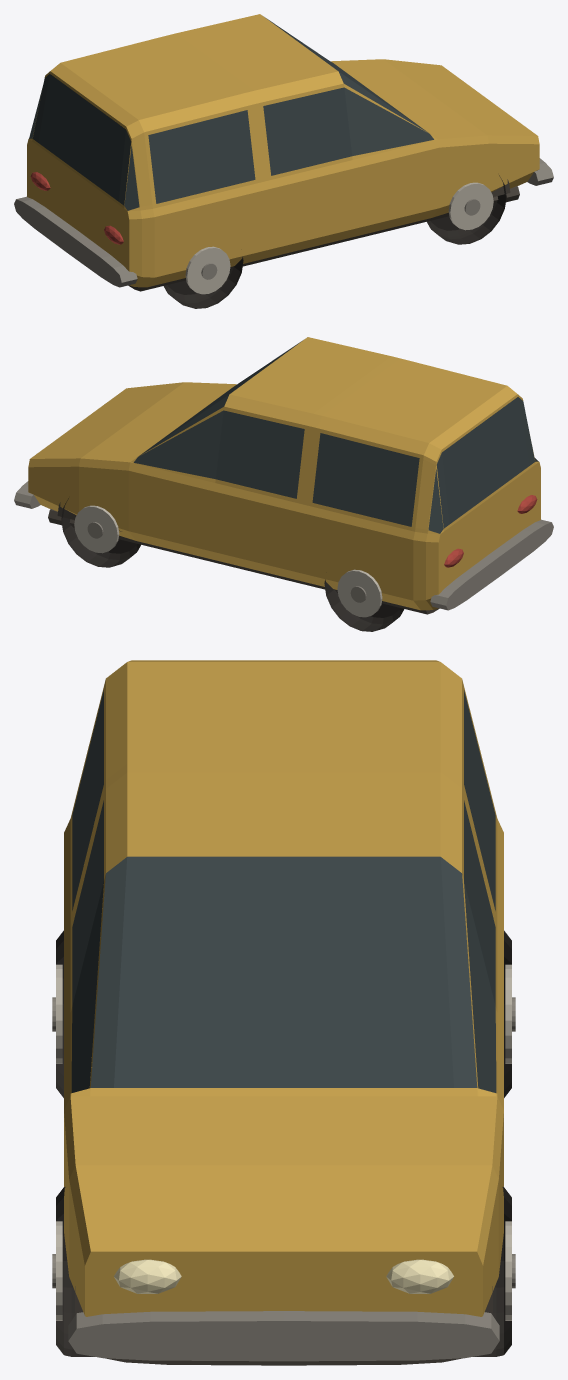
Rendered from hatchback-hardal.glb.
The picture shows the model from 3 angles, top to bottom: view 1: azimuth 30°, elevation 25°; view 2: azimuth 150°, elevation 25°; view 3: azimuth 270°, elevation 25°; orthographic projection. The views are drawn at different scales.
Parts seen in each view (by area): view 1: a_hardal, cam, tampon, jant, lastik, ic, stop; view 2: a_hardal, cam, tampon, jant, lastik, ic, stop; view 3: a_hardal, cam, tampon, lastik, far, jant, ic.
Part boxes in pixels (box(x1,y1,x2,y2)): a_hardal: box(27, 14, 539, 287); cam: box(29, 17, 433, 210); tampon: box(14, 158, 553, 287); jant: box(185, 182, 493, 294); lastik: box(163, 175, 506, 308); ic: box(128, 179, 519, 291); stop: box(30, 172, 123, 244); a_hardal: box(28, 337, 540, 610); cam: box(134, 340, 538, 533); tampon: box(14, 481, 553, 610); jant: box(74, 505, 382, 617); lastik: box(61, 498, 404, 631); ic: box(48, 502, 439, 614); stop: box(444, 495, 537, 567); a_hardal: box(64, 660, 503, 1316); cam: box(71, 690, 496, 1092); tampon: box(52, 997, 515, 1361); lastik: box(56, 930, 511, 1356); far: box(114, 1259, 453, 1293); jant: box(56, 964, 511, 1320); ic: box(75, 927, 492, 1365).
Bounding box in the file's own units: 3.81 × 1.61 × 1.77.
